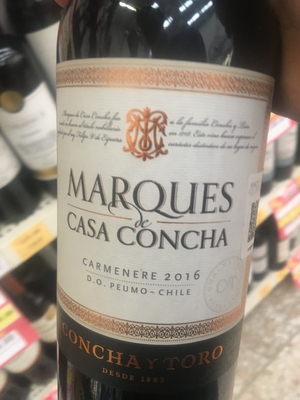marques de casa concha carmenere: (56, 4, 274, 400)
